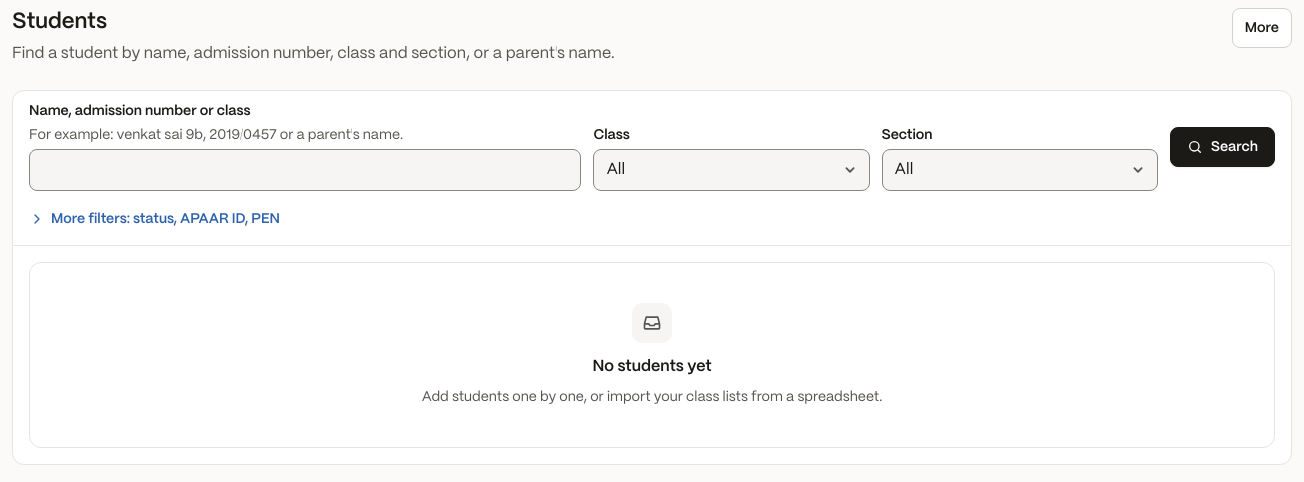
Test: US-302 / FR-STU-010: find students › searches without putting the name in the page URL, and respects permissions
Check: the text "No students yet" is shown, box [592,355,712,379]
Type "venkat sai 9b" into the search field labelled "Name, admission number or class" at (305, 170), box [29,149,581,191]
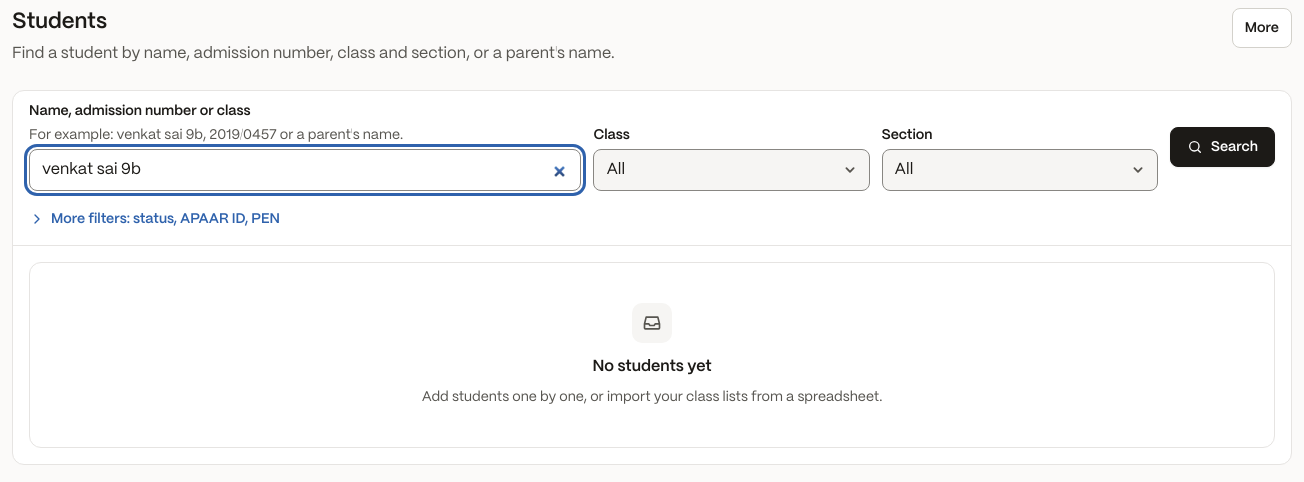
Click the button "Search" at (1222, 147), box [1170,127,1275,167]
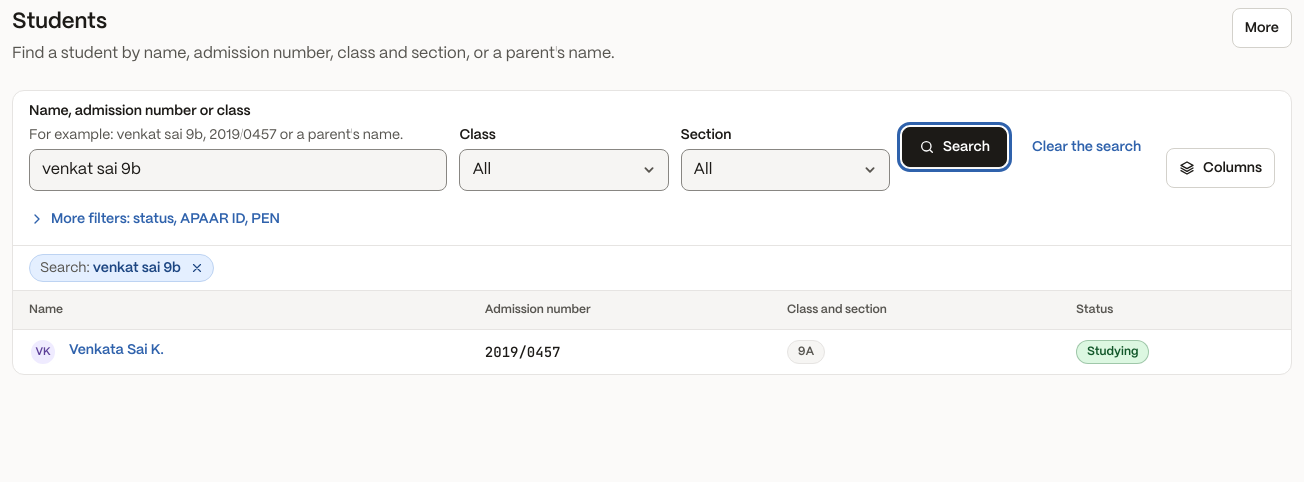
// Clearing starts again and puts the keyboard back in the search box.
Click the button "Clear the search" at (1087, 147), box [1015,127,1158,167]
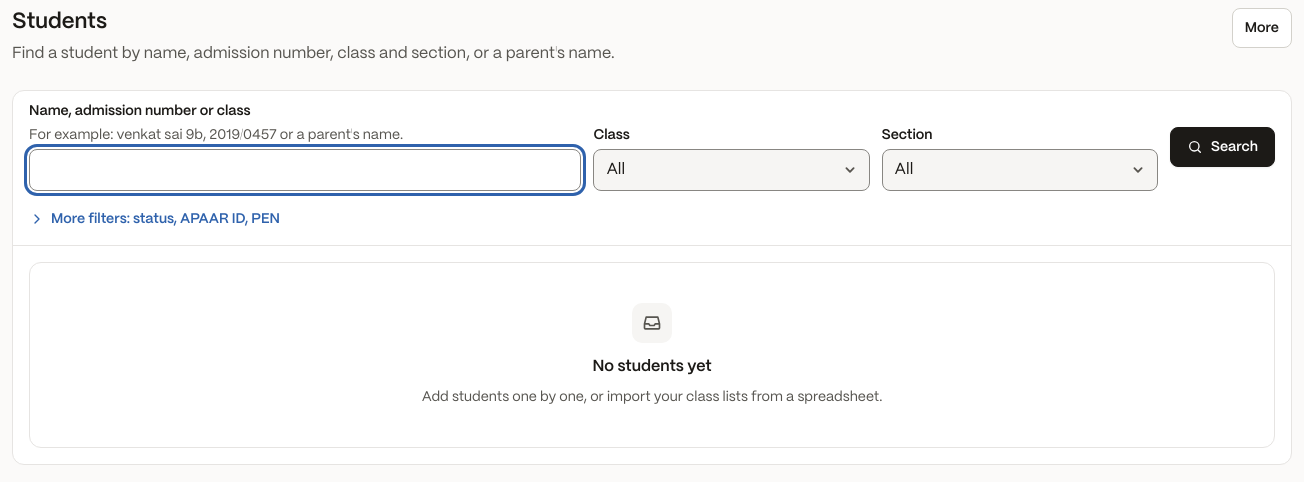
Check: the search field labelled "Name, admission number or class" is empty, box [29,149,581,191]
